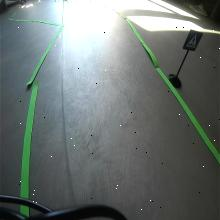crosswalk: (183, 29, 203, 52)
